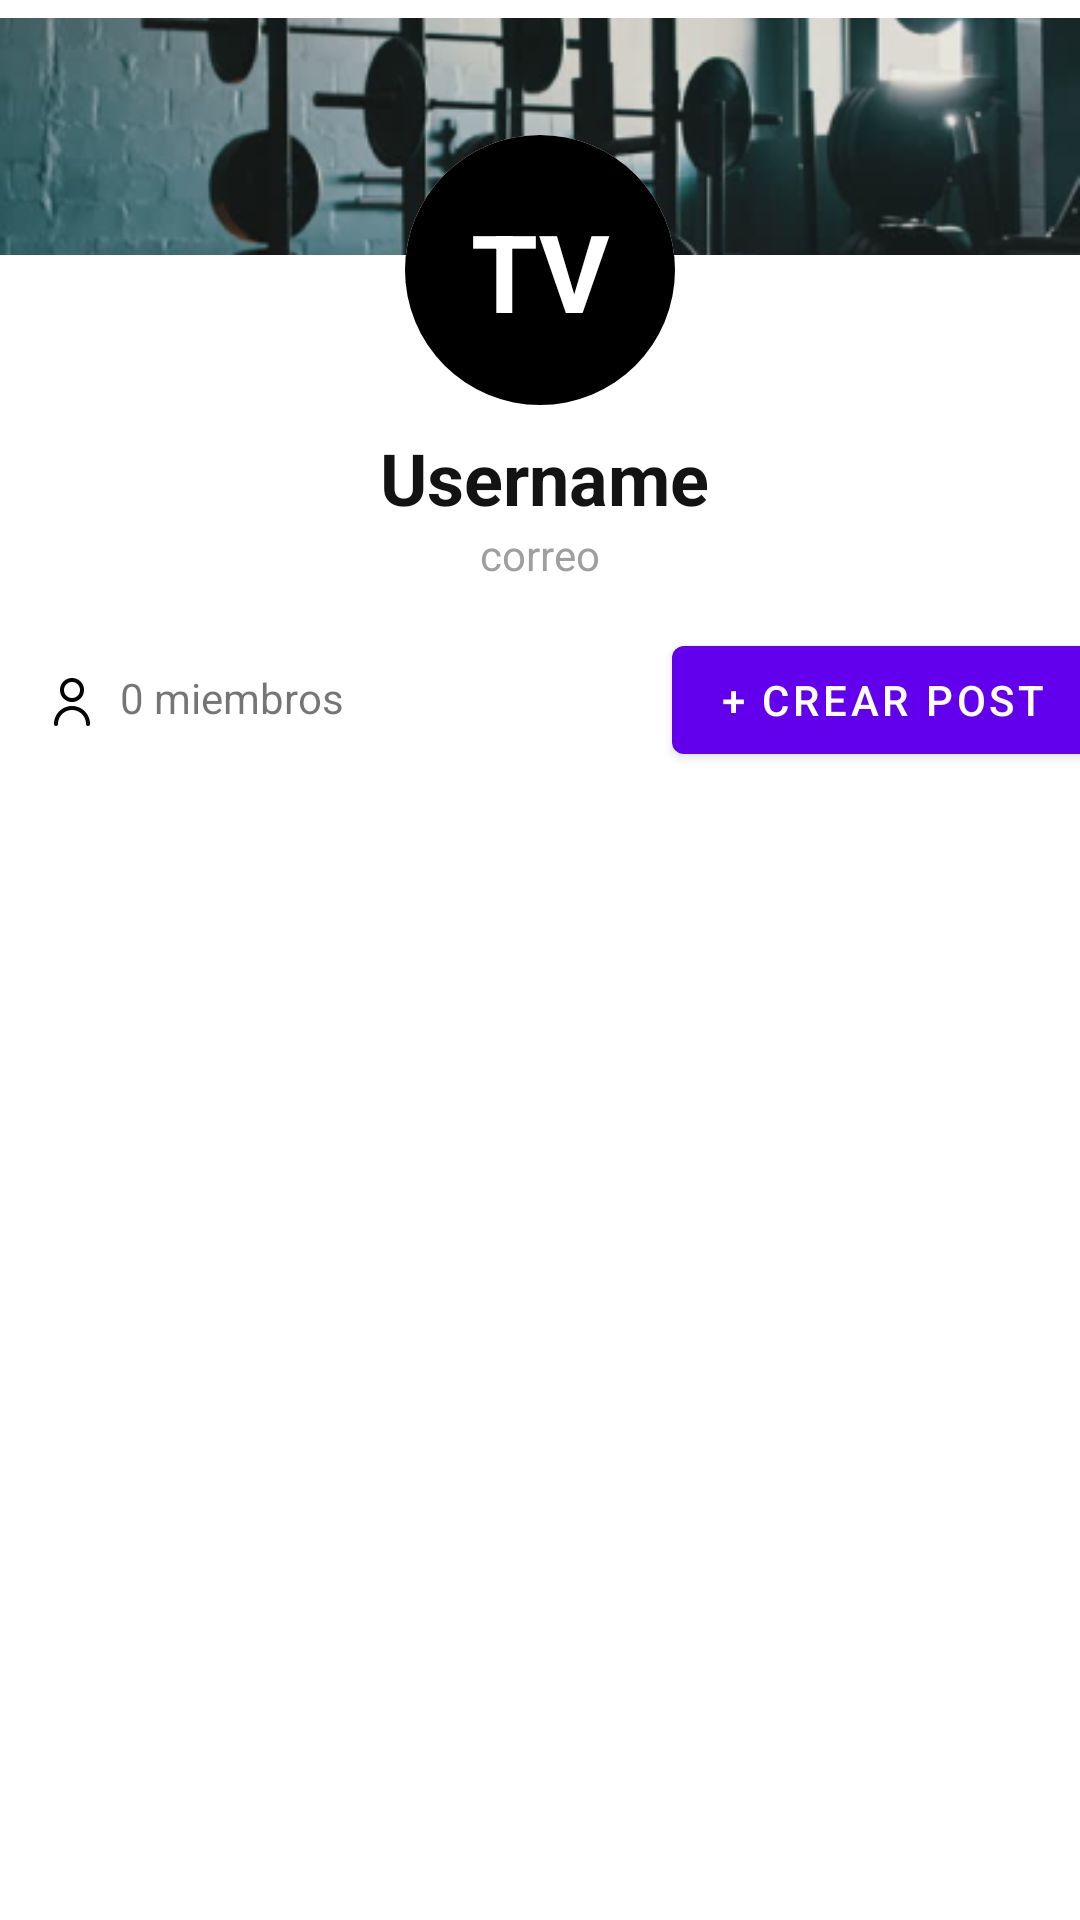

Screen size 1080px×1920px. Icon name, then its center in pixels as (x=x, y=y):
usuario: (x=72, y=702)
